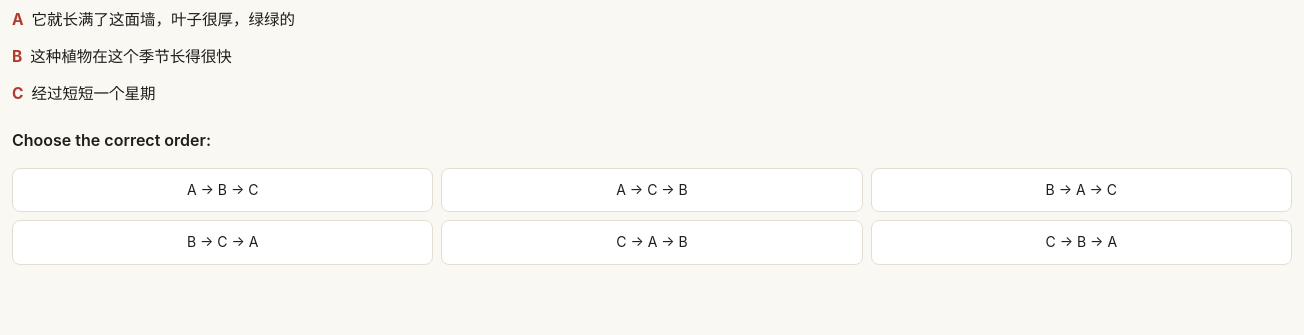
SentenceOrderQuestionComponent › greens the correct permutation
Click the button "B → C → A". click: (223, 243)
box: 12,220 -> 433,265
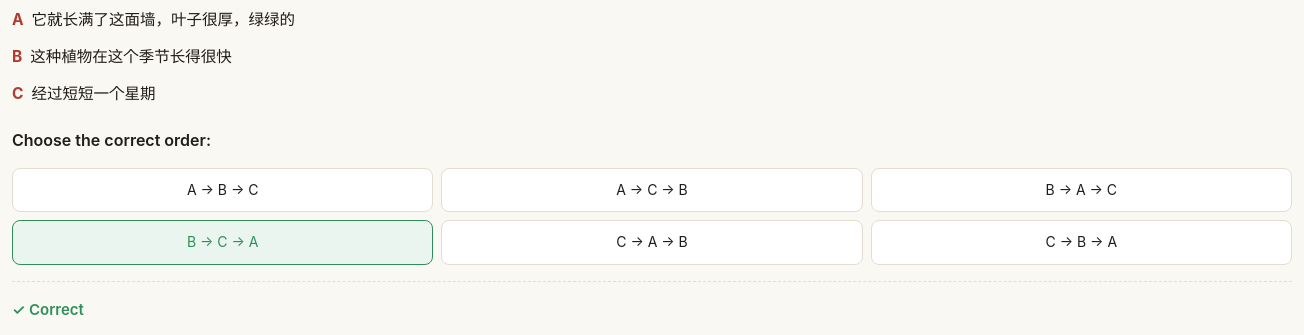
expect the text with class "good" shows "Correct": met, box 12,300 -> 84,319
